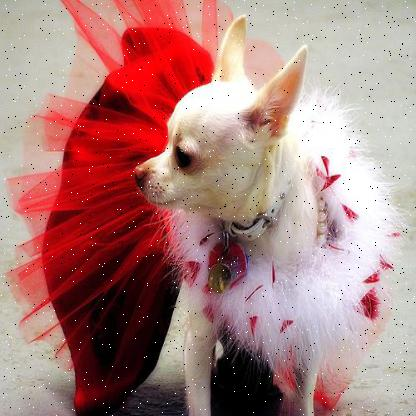dog: (119, 11, 331, 415)
